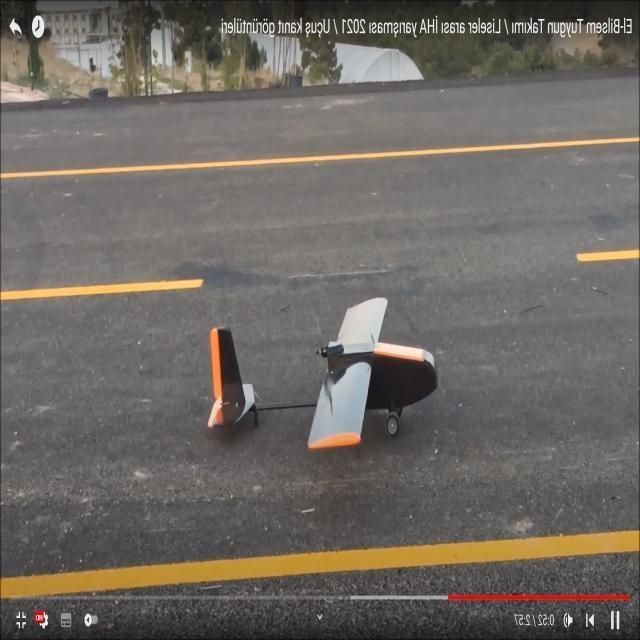Airplane: (199, 287, 440, 463)
